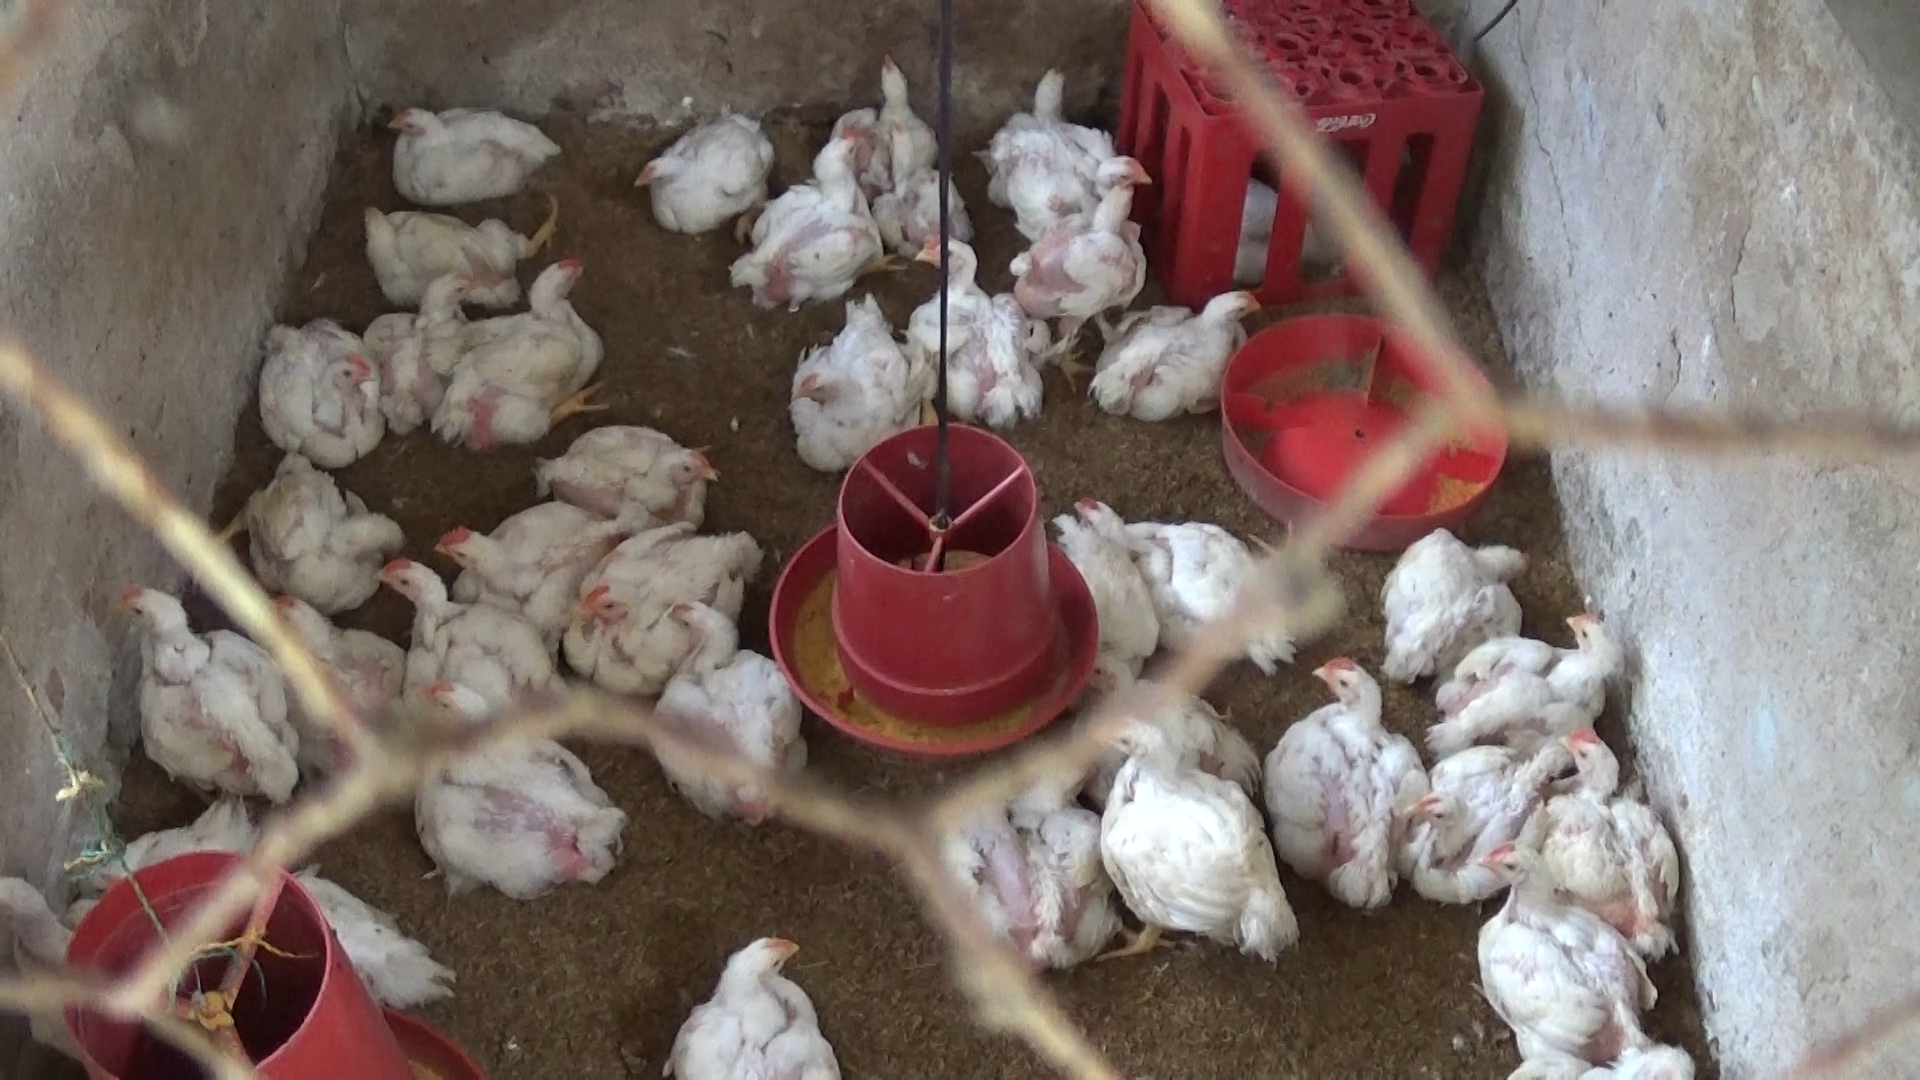Pollos: (1087, 709, 1300, 959), (404, 674, 632, 895), (1458, 833, 1662, 1080), (1069, 481, 1317, 659), (113, 576, 299, 812), (1269, 649, 1433, 914), (646, 592, 814, 823), (443, 251, 604, 456), (931, 785, 1109, 967), (1542, 723, 1683, 943), (571, 531, 760, 694), (220, 454, 419, 607), (653, 920, 843, 1080), (1391, 738, 1576, 902), (901, 216, 1050, 418), (1422, 603, 1629, 748), (363, 549, 545, 698), (1055, 638, 1246, 777), (1087, 286, 1273, 423), (736, 127, 876, 307), (353, 193, 568, 307), (431, 498, 593, 646), (1377, 522, 1528, 678), (535, 413, 717, 541), (782, 301, 920, 468), (363, 265, 495, 436), (1022, 185, 1145, 363), (625, 102, 783, 239), (255, 597, 406, 727), (388, 98, 564, 202), (258, 319, 382, 465), (860, 45, 952, 193), (986, 61, 1105, 174), (1007, 146, 1147, 241)
